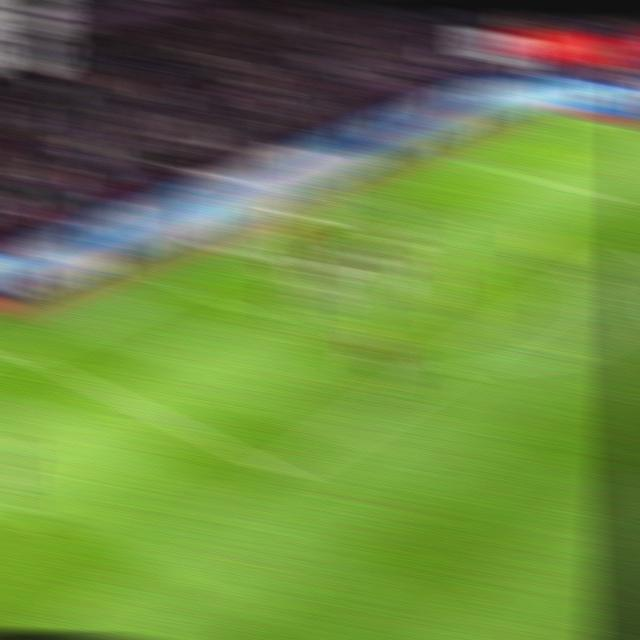bigarea_bottom_inner: (257, 451, 305, 489)
bigarea_bottom_outter: (0, 337, 40, 364)
bigarea_top_outter: (446, 148, 487, 171)
bottom_arc_area_intersection: (423, 353, 465, 380)
corner: (545, 106, 588, 127)
smallarea_bottom_inner: (232, 297, 275, 328)
smallarea_bottom_outter: (159, 270, 202, 295)
smallarea_top_inner: (421, 209, 462, 233)
smallarea_top_outter: (354, 188, 395, 211)
top_arc_area_intersection: (573, 264, 611, 288)
